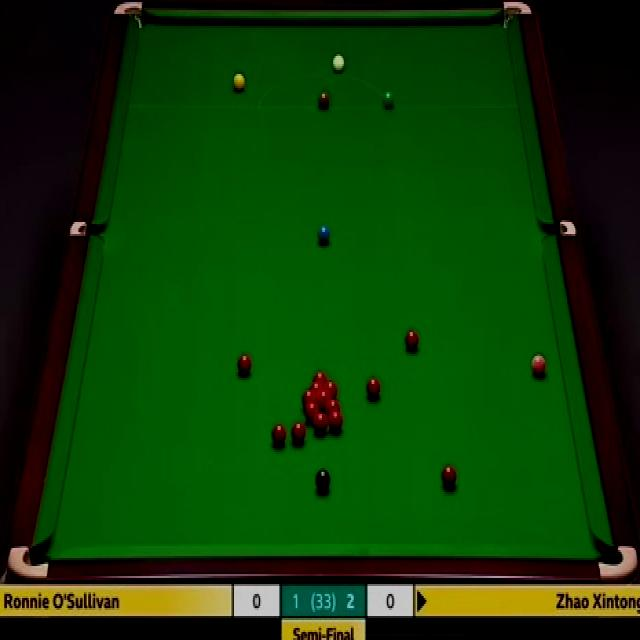black-ball: (315, 468, 331, 492)
blue-ball: (316, 223, 332, 246)
brown-ball: (318, 91, 330, 110)
green-ball: (382, 90, 394, 109)
pink-ball: (442, 356, 458, 380)
red-ball: (378, 336, 394, 361), (236, 353, 252, 377), (313, 411, 329, 434), (328, 409, 343, 433), (364, 376, 379, 400), (273, 421, 289, 443), (406, 442, 420, 467), (291, 423, 305, 446), (304, 402, 319, 421), (322, 381, 338, 397), (324, 399, 340, 413), (316, 390, 332, 404), (302, 389, 316, 402), (312, 370, 328, 381), (309, 381, 325, 390)
white-ball: (332, 53, 346, 73)
yellow-ball: (233, 71, 245, 93)
